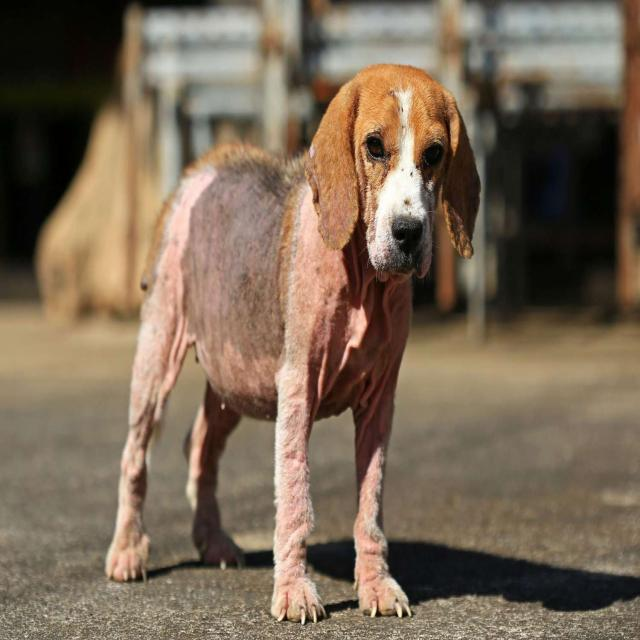mange: (184, 186, 306, 384), (296, 256, 399, 391), (279, 366, 313, 582), (358, 398, 386, 564), (139, 308, 180, 383)
